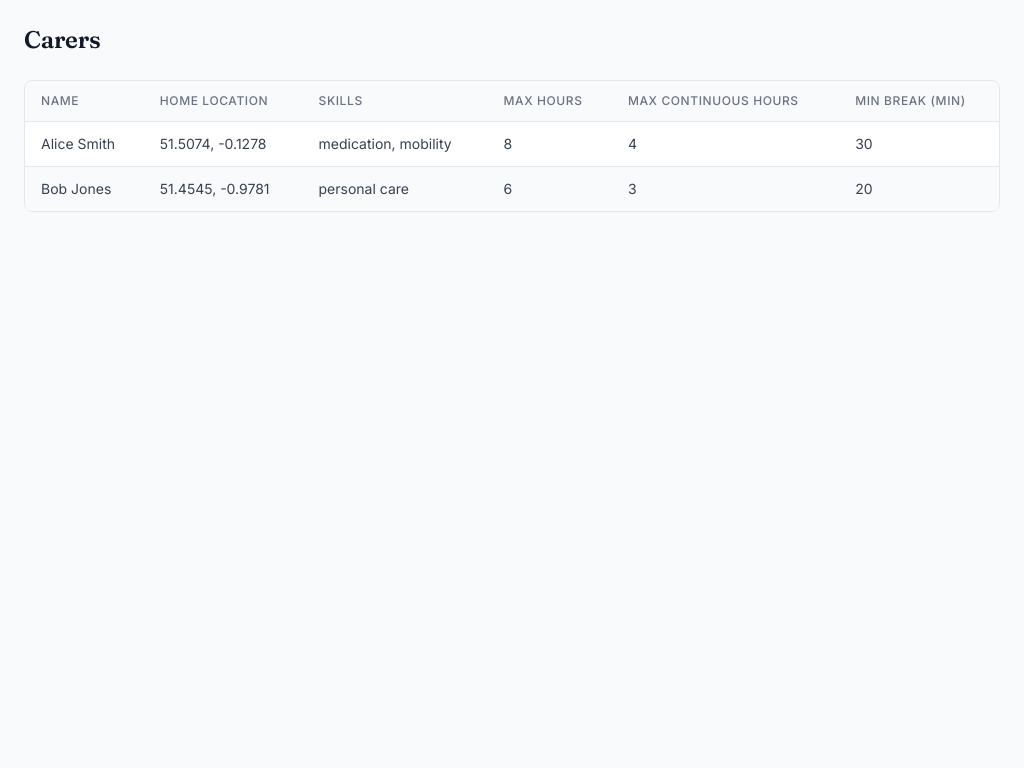
it: CarersPage › shows confirmation toast on successful update
The image size is (1024, 768).
What coordinates should you click on to do the following:
click the text "Alice Smith"
I would click on:
 (84, 144)
Its box is [25, 122, 144, 166].
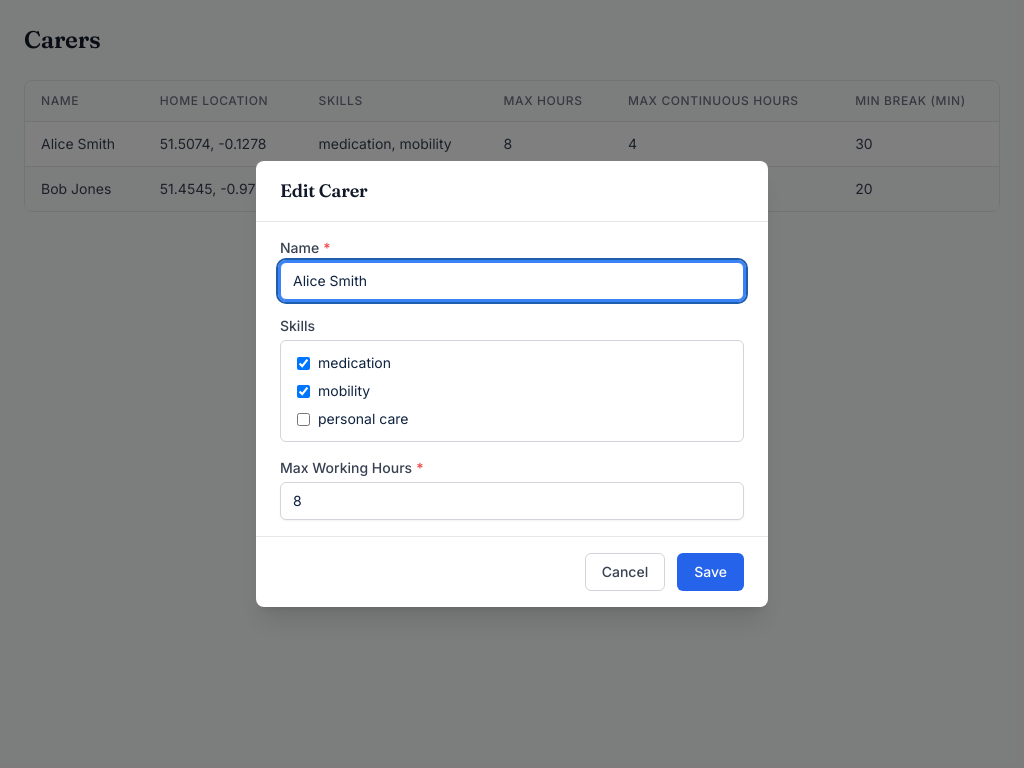
expect the heading "Edit Carer" is shown: met, box [280, 179, 368, 202]
What coordinates should you click on to do the following:
click the button "Save"
I would click on:
 (711, 572)
Its box is [677, 553, 744, 591].
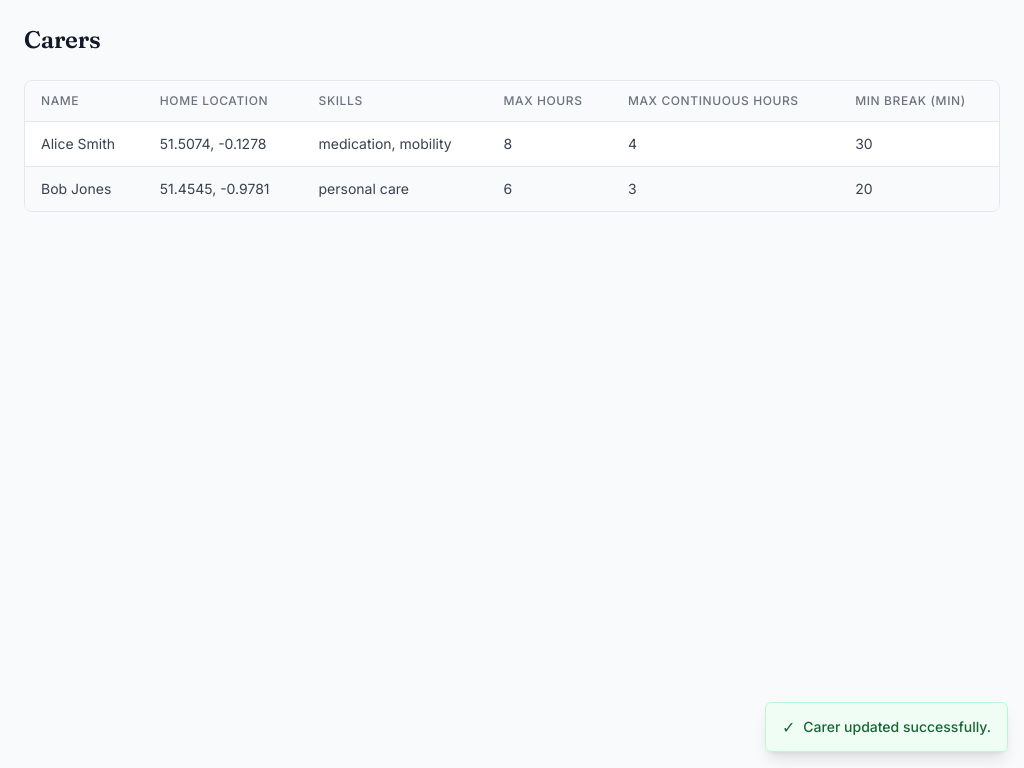
expect the text "Carer updated successfully." is shown: met, box [803, 717, 991, 737]
